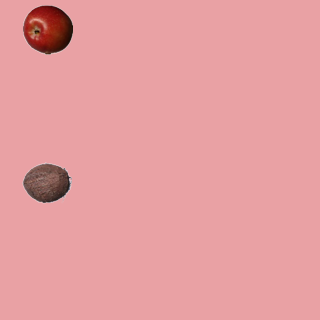Apple Braeburn: (22, 4, 72, 54)
Cocos: (21, 157, 71, 207)
